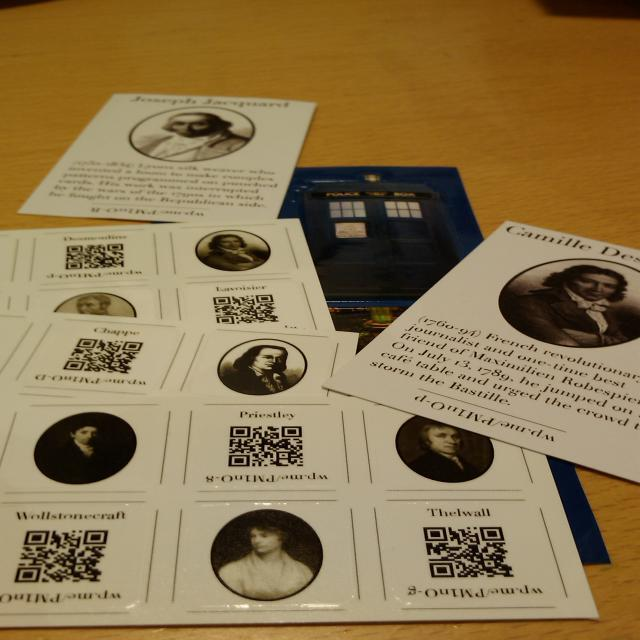qr_code: (14, 530, 108, 582), (423, 526, 514, 578), (228, 426, 303, 466), (63, 338, 144, 374), (212, 295, 278, 324), (65, 243, 124, 270)
